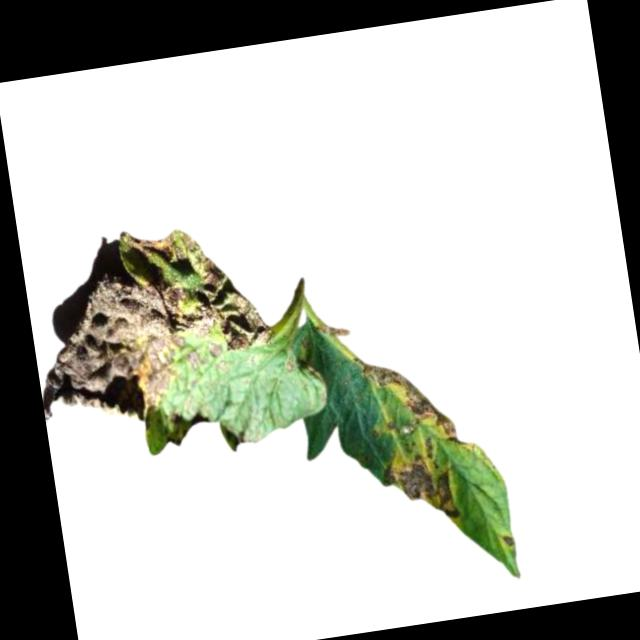Early_blight: (19, 211, 288, 438), (356, 348, 463, 454), (379, 441, 463, 528), (500, 533, 516, 547)
